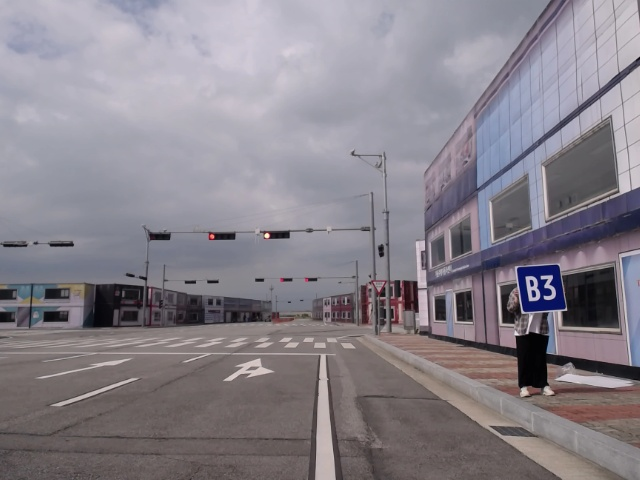delivery_b3: (516, 263, 570, 314)
red_4: (260, 227, 294, 241), (205, 229, 239, 241), (278, 276, 294, 284), (303, 276, 318, 282)
